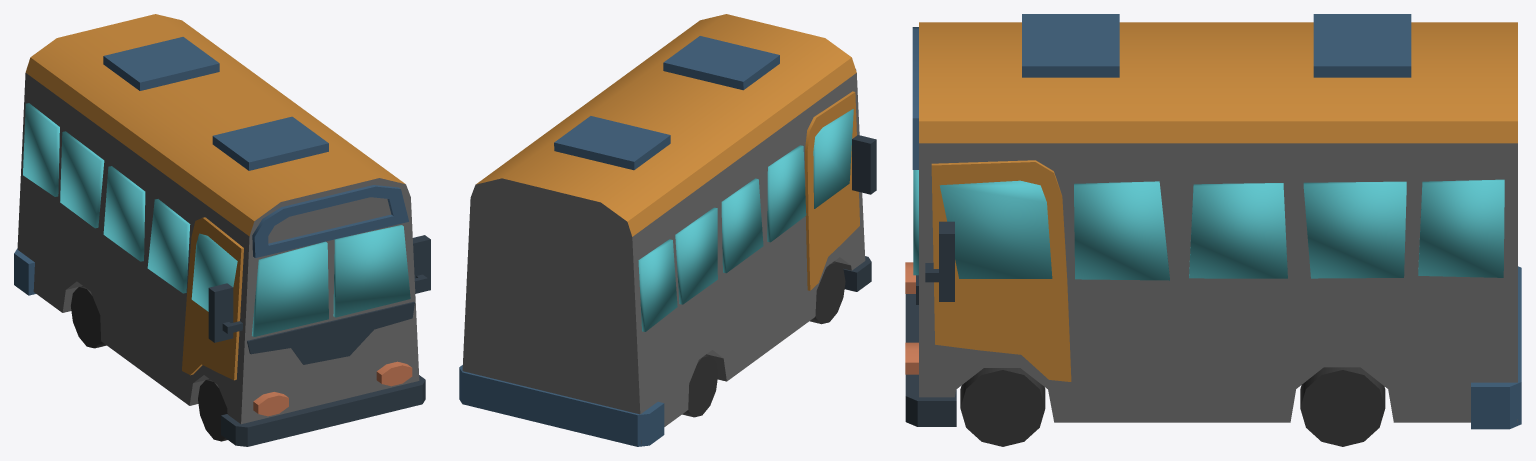
Rendered from Bus.fbx.
3 renders of one model, left to right at view 1: azimuth 30°, elevation 25°; view 2: azimuth 150°, elevation 25°; view 3: azimuth 270°, elevation 25°, orthographic. The views are drawn at different scales.
Visible parts, largest first — view 1: Bus, Roof, Polygon, Symmetry, Wheels; view 2: Bus, Roof, Polygon, Symmetry, Wheels; view 3: Bus, Roof, Polygon, Symmetry, Wheels.
Part boxes in pixels (<box>): Bus: <box>14,37,430,446</box>; Roof: <box>25,14,404,236</box>; Polygon: <box>23,103,410,336</box>; Symmetry: <box>182,217,243,380</box>; Wheels: <box>71,286,227,441</box>; Bus: <box>459,36,876,446</box>; Roof: <box>476,14,856,236</box>; Polygon: <box>638,109,853,331</box>; Symmetry: <box>805,91,859,290</box>; Wheels: <box>682,261,845,417</box>; Bus: <box>905,14,1521,429</box>; Roof: <box>919,22,1517,143</box>; Polygon: <box>913,170,1504,280</box>; Symmetry: <box>931,160,1071,381</box>; Wheels: <box>960,367,1385,446</box>.
Size of the model in its own units: 271 by 314 by 501.
